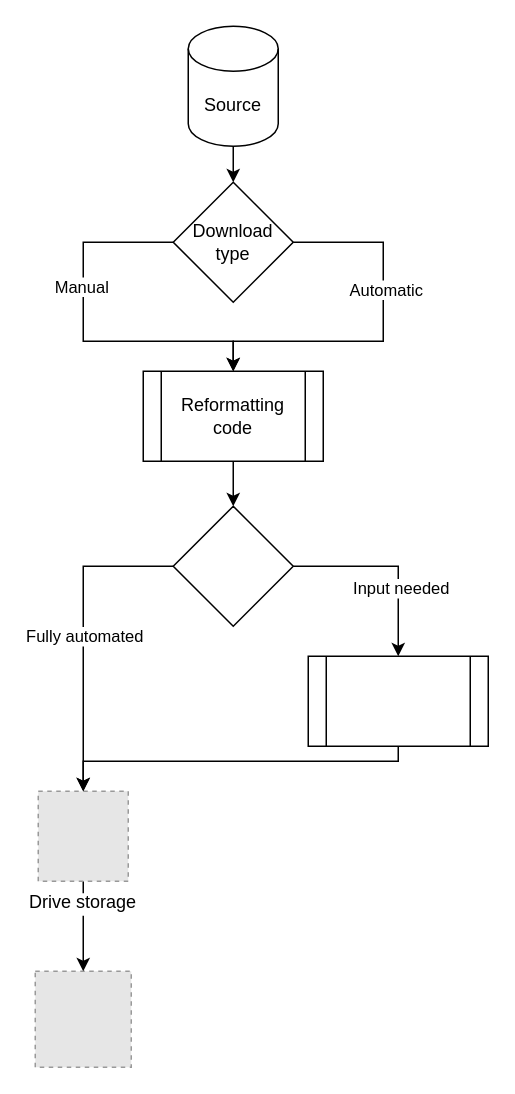
The diagram is 515 pixels wide and 1094 high, and some of its shapes have lost their labels. Grey dashed boxes stand in for pictures. The box of each missing label's shape, as (x1, y1, x2, y2) in pixels:
Manual input: (307, 655, 488, 746)
Processing type: (172, 505, 293, 626)
